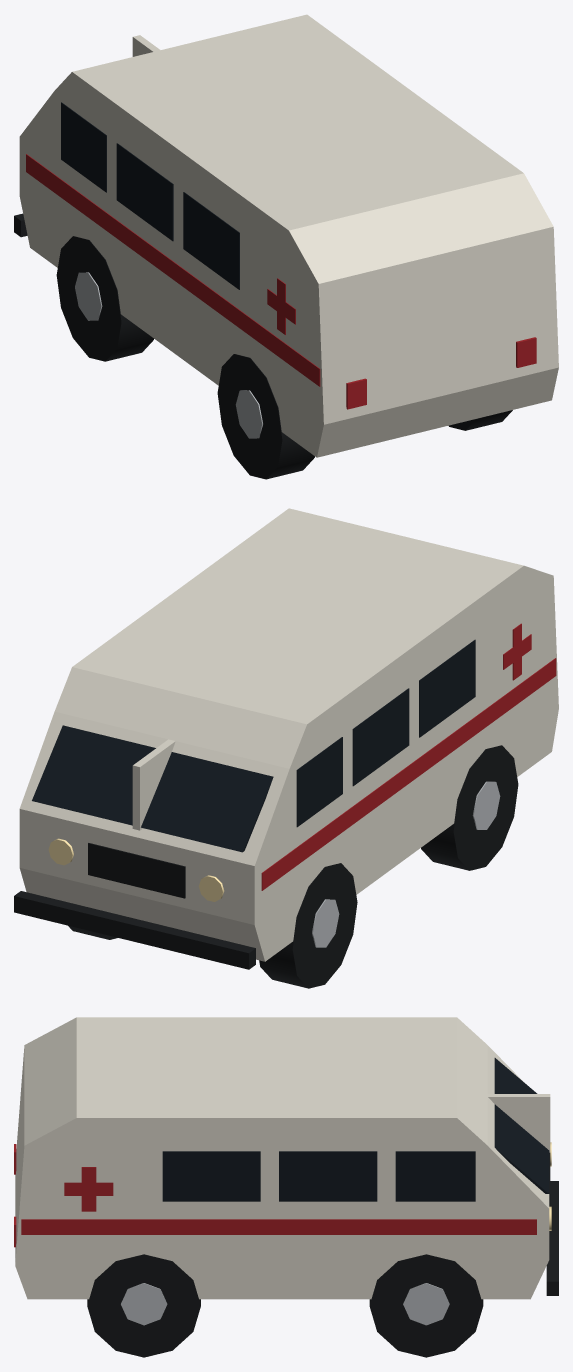
Rendered from car-ambulance.glb.
The picture shows the model from 3 angles, top to bottom: view 1: azimuth 30°, elevation 25°; view 2: azimuth 150°, elevation 25°; view 3: azimuth 270°, elevation 25°; orthographic projection. The views are drawn at different scales.
Visible parts, largest first — view 1: 01_#e0dcd0_r320, 00_#1e2022_noshadow_r320, 02_#1a2026_noshadow_r320, 03_#a3262c_noshadow_r320, 06_#b8bcc0_noshadow_r110; view 2: 01_#e0dcd0_r320, 02_#1a2026_noshadow_r320, 00_#1e2022_noshadow_r320, 03_#a3262c_noshadow_r320, 06_#b8bcc0_noshadow_r110, 04_#ffe9b0_noshadow; view 3: 01_#e0dcd0_r320, 02_#1a2026_noshadow_r320, 00_#1e2022_noshadow_r320, 03_#a3262c_noshadow_r320, 06_#b8bcc0_noshadow_r110.
Boxes of the visible parts, x1,y1,x2,y2 form: 01_#e0dcd0_r320: [19, 14, 558, 457]; 00_#1e2022_noshadow_r320: [14, 213, 512, 479]; 02_#1a2026_noshadow_r320: [61, 102, 239, 289]; 03_#a3262c_noshadow_r320: [26, 154, 536, 409]; 06_#b8bcc0_noshadow_r110: [75, 272, 262, 438]; 01_#e0dcd0_r320: [19, 508, 558, 961]; 02_#1a2026_noshadow_r320: [32, 639, 475, 852]; 00_#1e2022_noshadow_r320: [14, 745, 518, 988]; 03_#a3262c_noshadow_r320: [261, 623, 556, 890]; 06_#b8bcc0_noshadow_r110: [312, 781, 500, 947]; 04_#ffe9b0_noshadow: [48, 838, 224, 901]; 01_#e0dcd0_r320: [15, 1017, 550, 1299]; 02_#1a2026_noshadow_r320: [162, 1058, 549, 1201]; 00_#1e2022_noshadow_r320: [87, 1152, 558, 1357]; 03_#a3262c_noshadow_r320: [14, 1144, 536, 1247]; 06_#b8bcc0_noshadow_r110: [121, 1283, 449, 1325].
Bounding box in the file's own units: 1.96 × 2.15 × 4.44.
